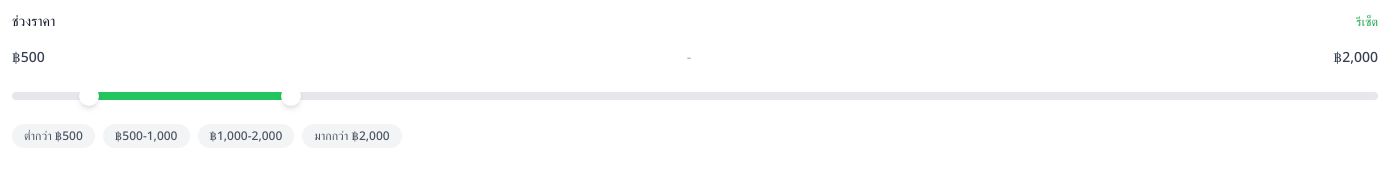
Test: PriceFilter Component › reset button clears to default values
Step 1. Click the button "รีเซ็ต" → {"x": 1367, "y": 22}, box x1=1356 y1=14 x2=1378 y2=30
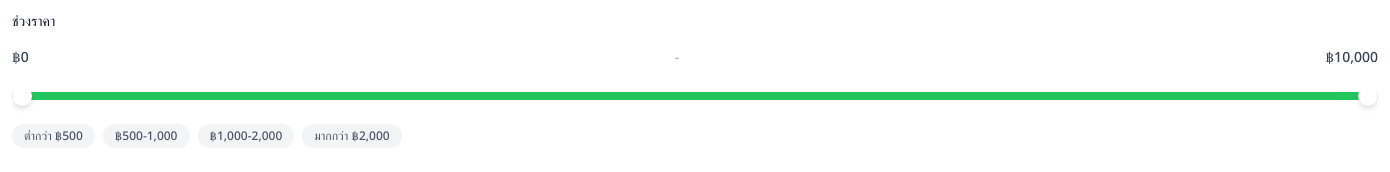
Expected: the text "฿0" is shown, x1=12 y1=48 x2=29 y2=68
Expected: the text "฿10,000" is shown, x1=1325 y1=48 x2=1378 y2=68
